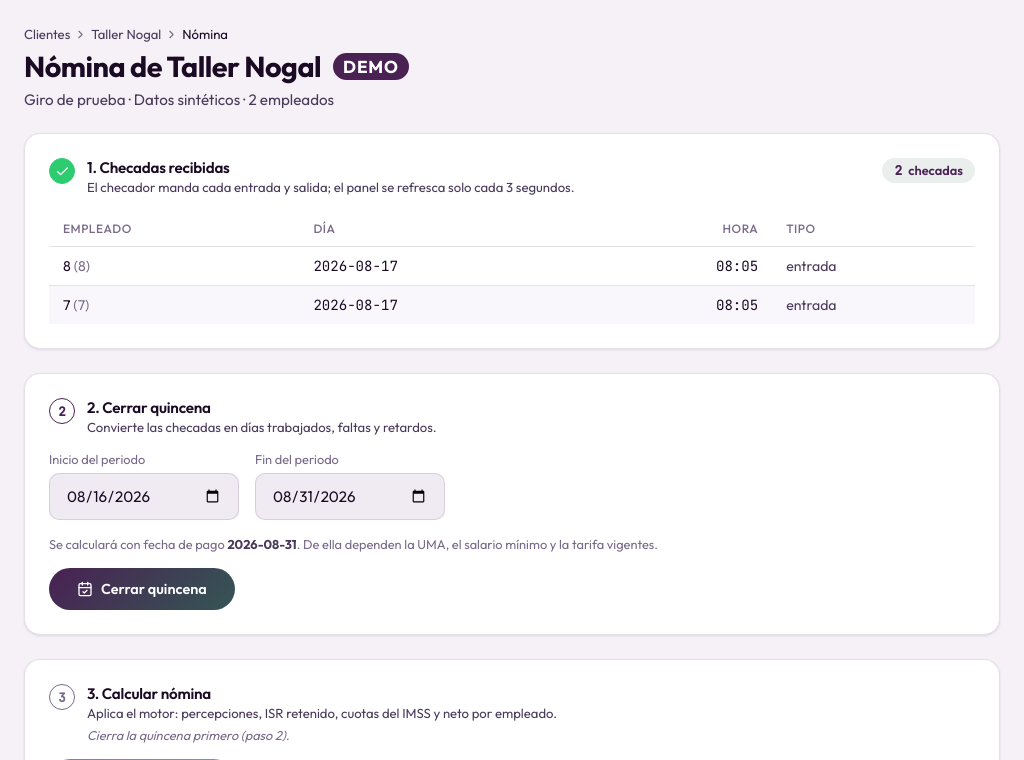
Scenario: el cierre usa la llave del CHECADOR y la nómina la del CÁLCULO › la tabla de incidencias pinta el nombre, no el número del aparato
Expected: the date field showing "2026-08-16" is shown, [49,473,239,520]
Click the button "Cerrar quincena" at (142, 589), box [49,568,235,610]
(page scrolled)
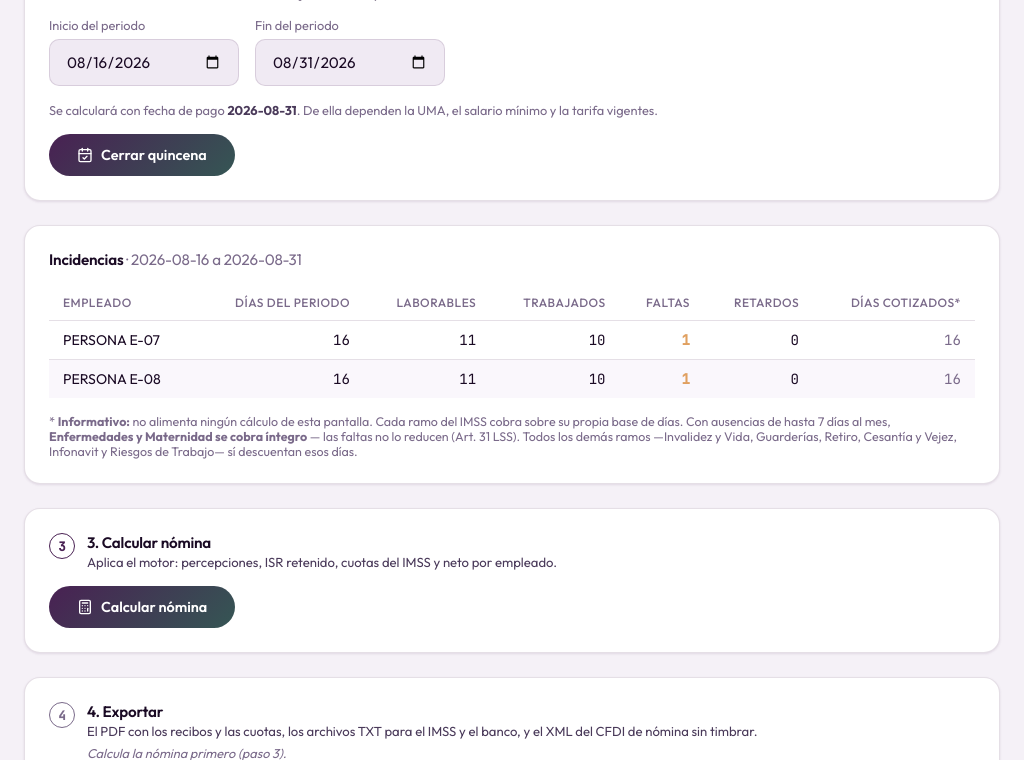
Expected: the text "PERSONA E-07" is shown, [49,320,196,360]
Expected: the text "PERSONA E-08" is shown, [49,360,196,398]
